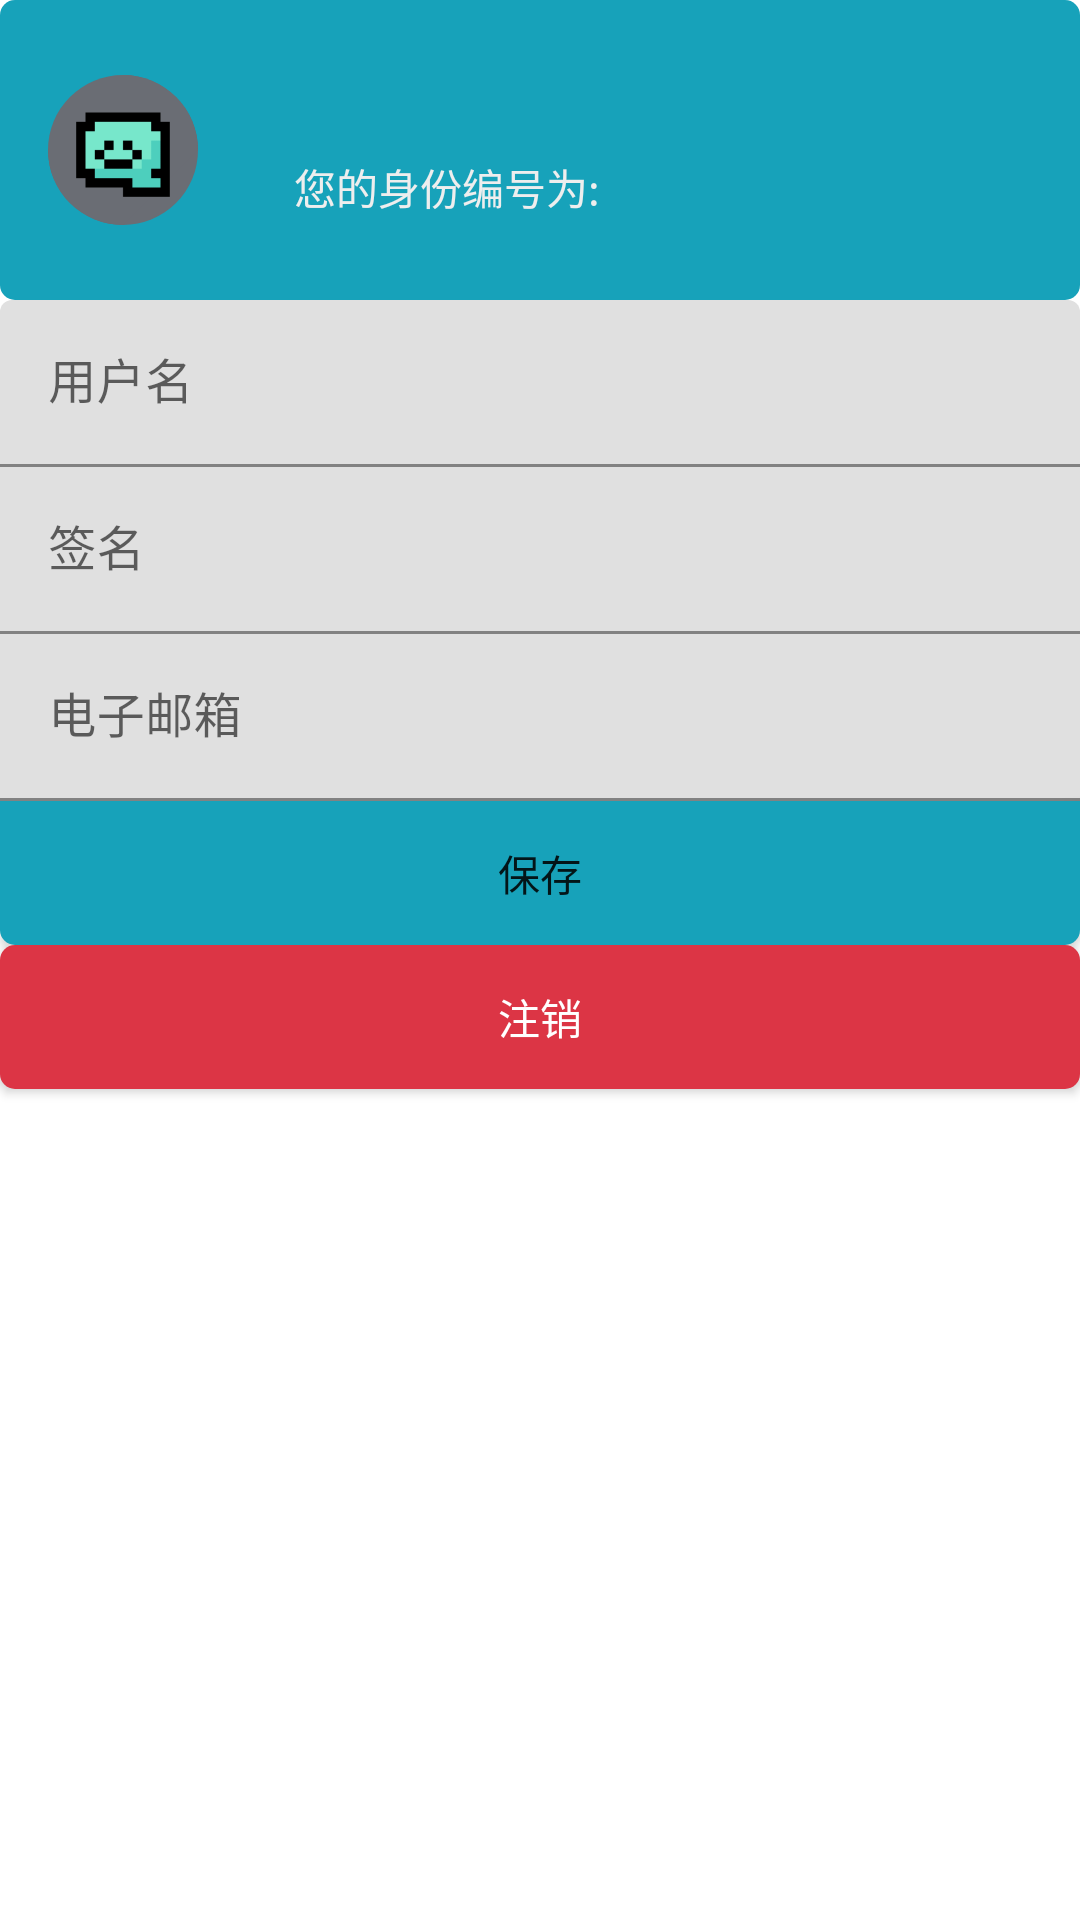

Screen size 1080 x 1920. Icon name, then its box in pixels as (x1, y1, x2, y2):
message: (48, 75, 198, 225)
